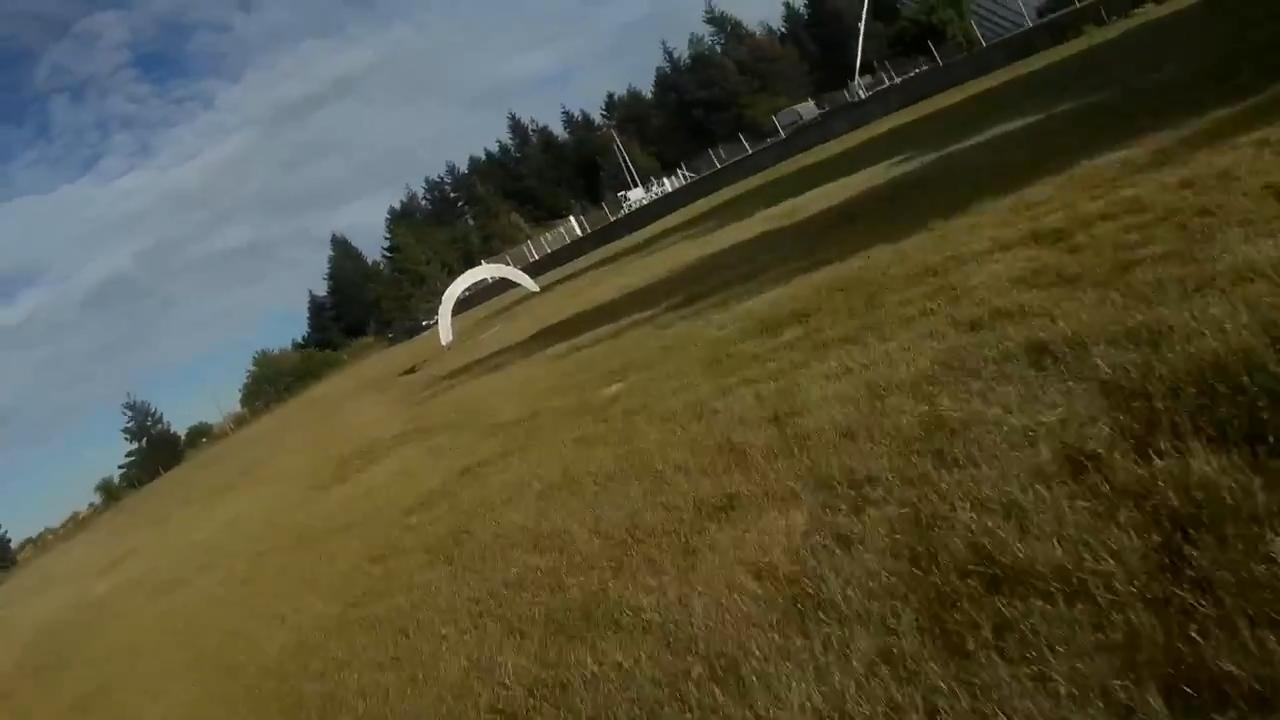gate: (436, 263, 538, 344)
